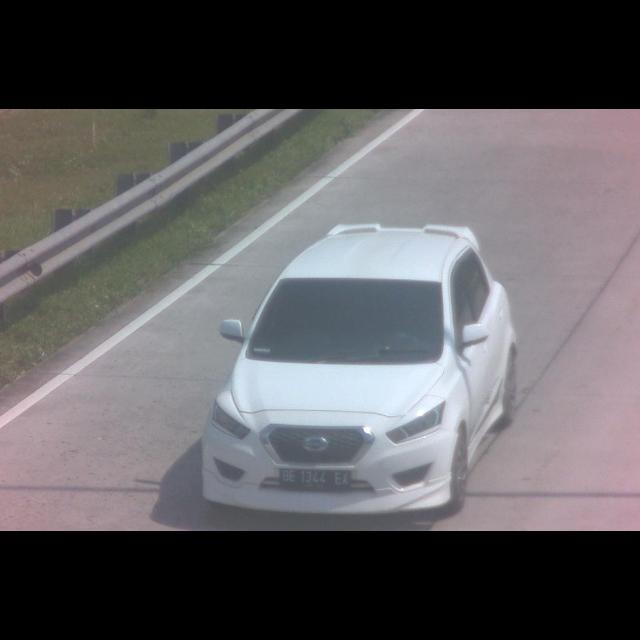plate: (277, 466, 351, 491)
